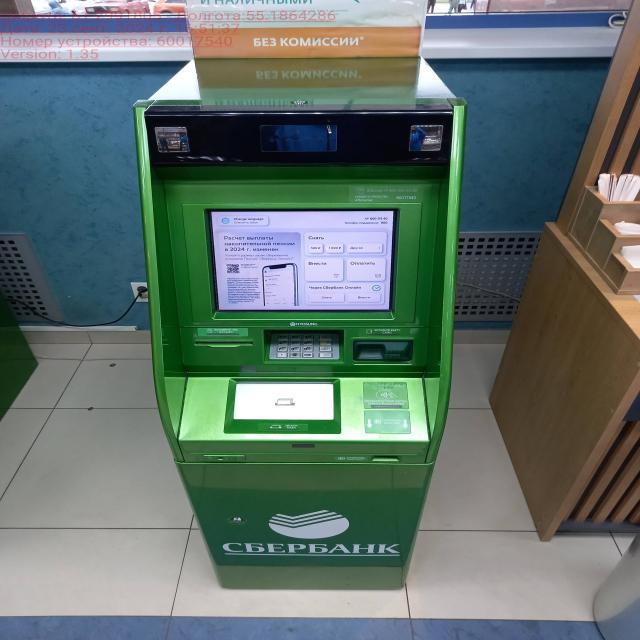bank: (136, 0, 470, 591)
